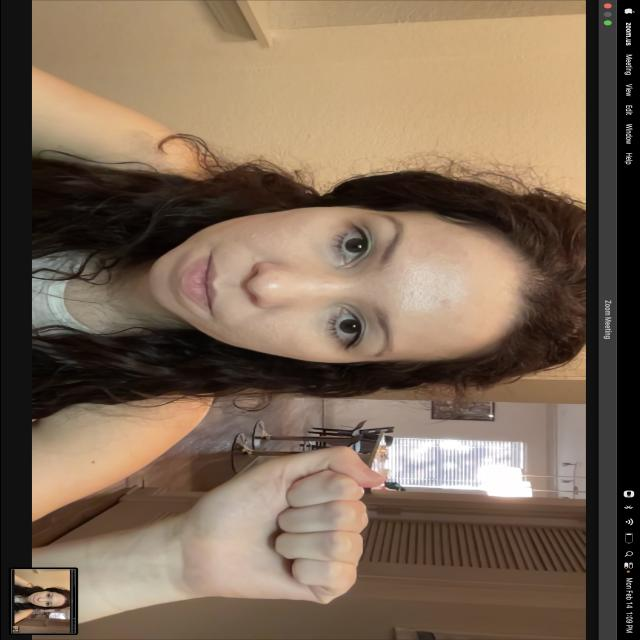Rock: (168, 442, 388, 619)
